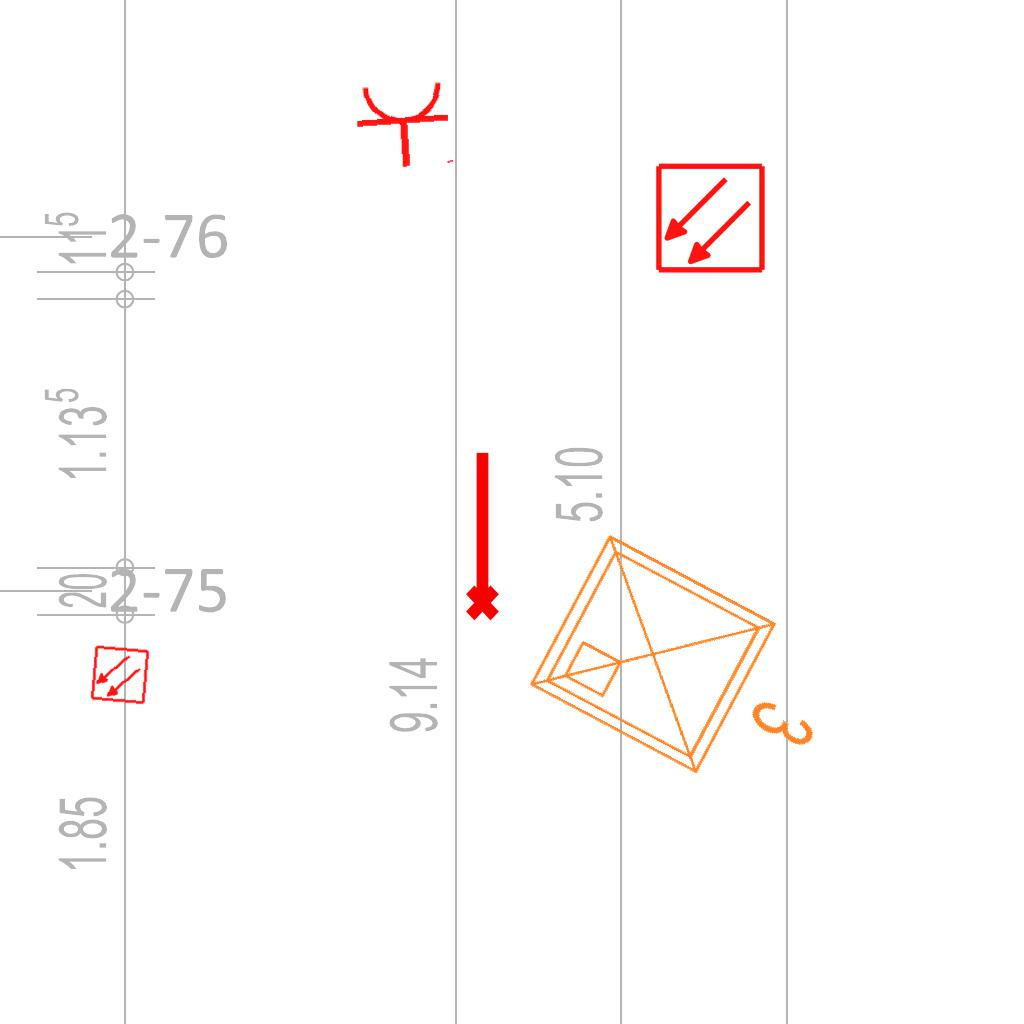ASR_Ansaugoeffnung: (457, 447, 503, 623)
Einbaudownlights_LED_Konferenzraeume: (509, 507, 873, 833)
RMO_Rauchmelder_optischer: (654, 162, 767, 275), (89, 644, 151, 706)
Schukosteckdose_einfach: (352, 78, 459, 172)
